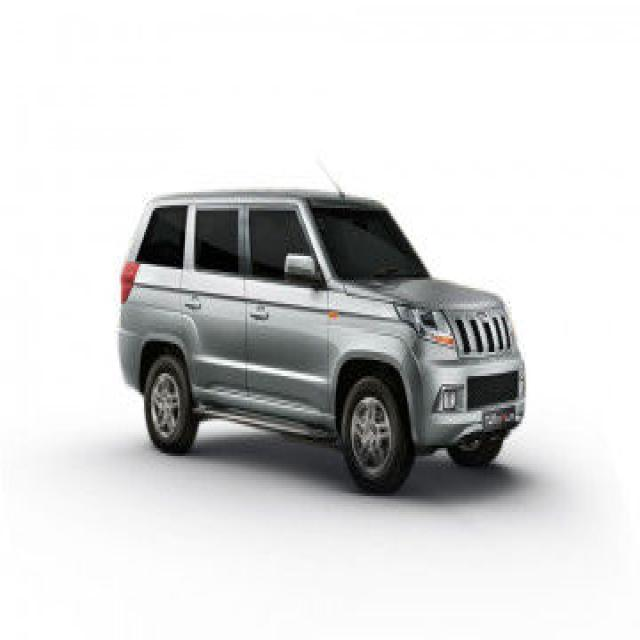light_vehicle: (102, 178, 531, 500)
